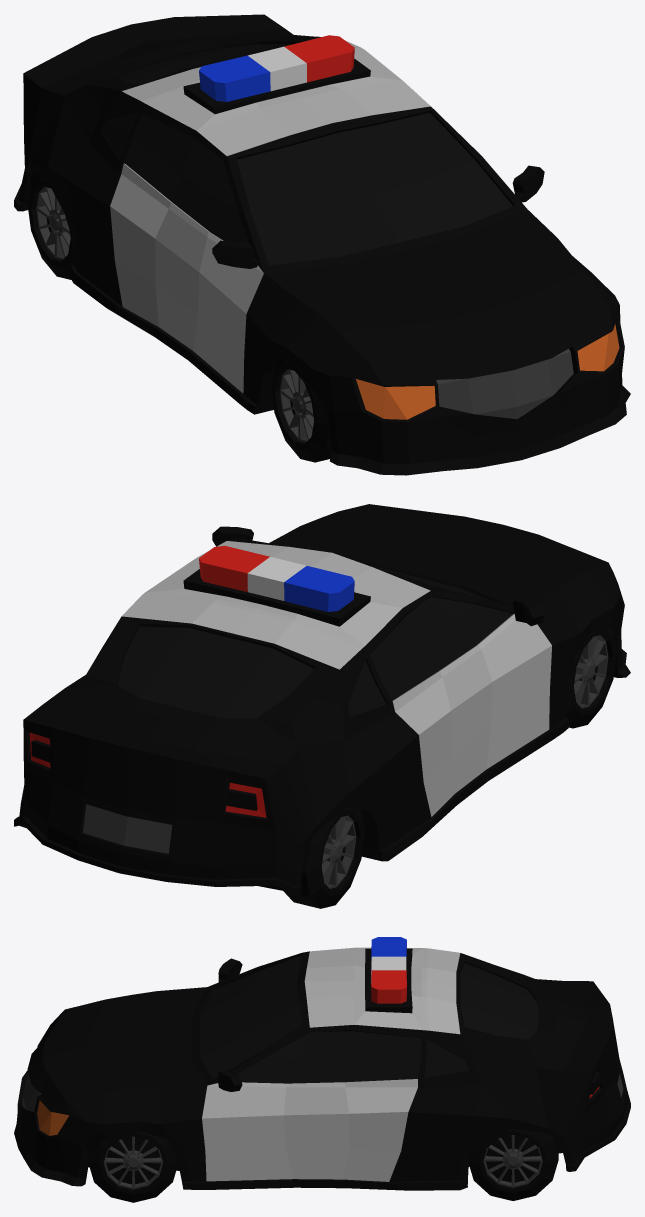
File: car_Cop.glb
3 views of the same model, one above another, from view 1: azimuth 30°, elevation 25°; view 2: azimuth 150°, elevation 25°; view 3: azimuth 270°, elevation 25° (orthographic). The views are drawn at different scales.
Visible parts, largest first — view 1: Cop, Cop_FrontRightWheel, Cop_BackWheels; view 2: Cop, Cop_BackWheels, Cop_FrontRightWheel; view 3: Cop, Cop_BackWheels, Cop_FrontLeftWheel.
Part boxes in pixels (x1,y1,x2,y2): Cop: (14,14,630,475); Cop_FrontRightWheel: (270,358,331,462); Cop_BackWheels: (27,173,73,279); Cop: (14,504,630,895); Cop_BackWheels: (283,807,364,908); Cop_FrontRightWheel: (566,627,617,728); Cop: (14,937,630,1190); Cop_BackWheels: (469,1129,558,1200); Cop_FrontLeftWheel: (88,1131,178,1202).
Bounding box in the file's own units: 2.19 × 1.53 × 4.6.
Materials: 1 (1 with a texture image).
